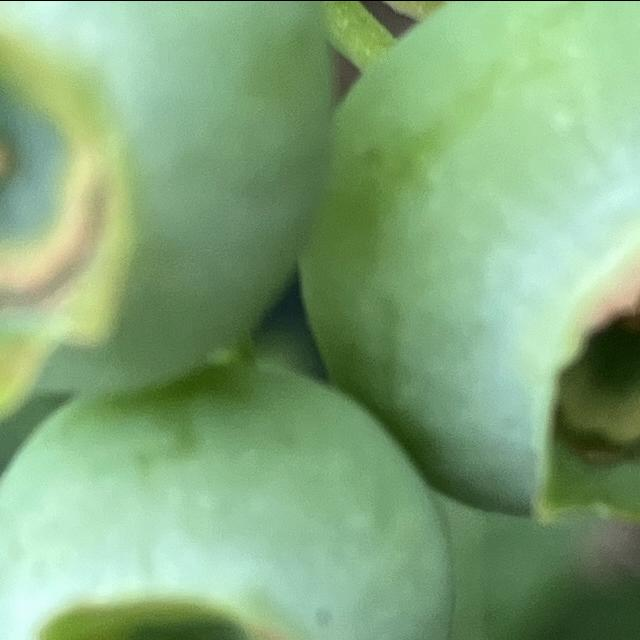Blueberries: (310, 0, 640, 591), (0, 0, 336, 435), (0, 356, 470, 640)
